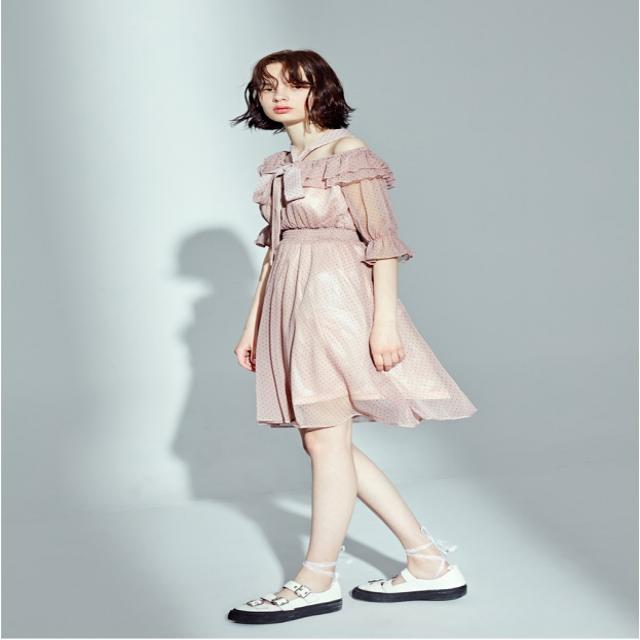clothes: (234, 139, 478, 429)
